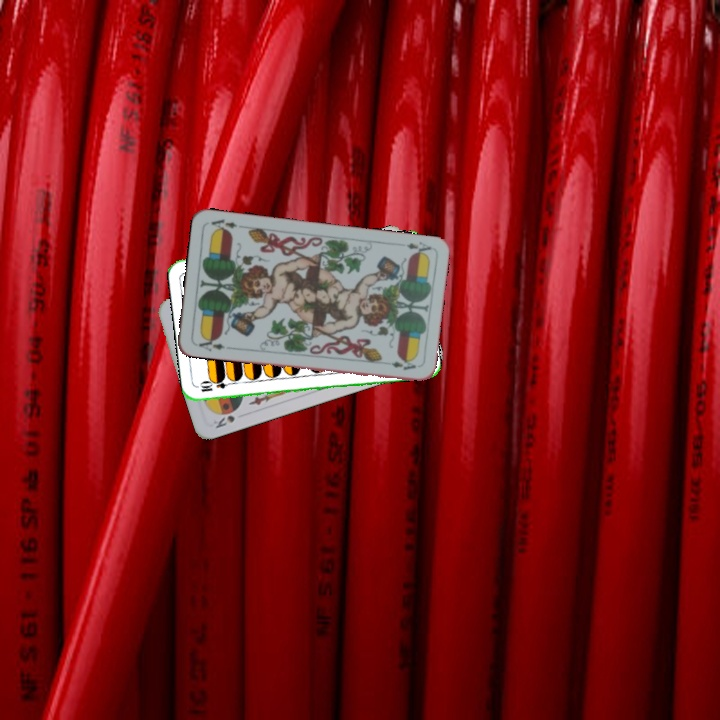E10: (196, 377, 237, 395)
EA: (192, 333, 227, 354), (403, 237, 434, 258)
SK: (209, 411, 237, 431)
